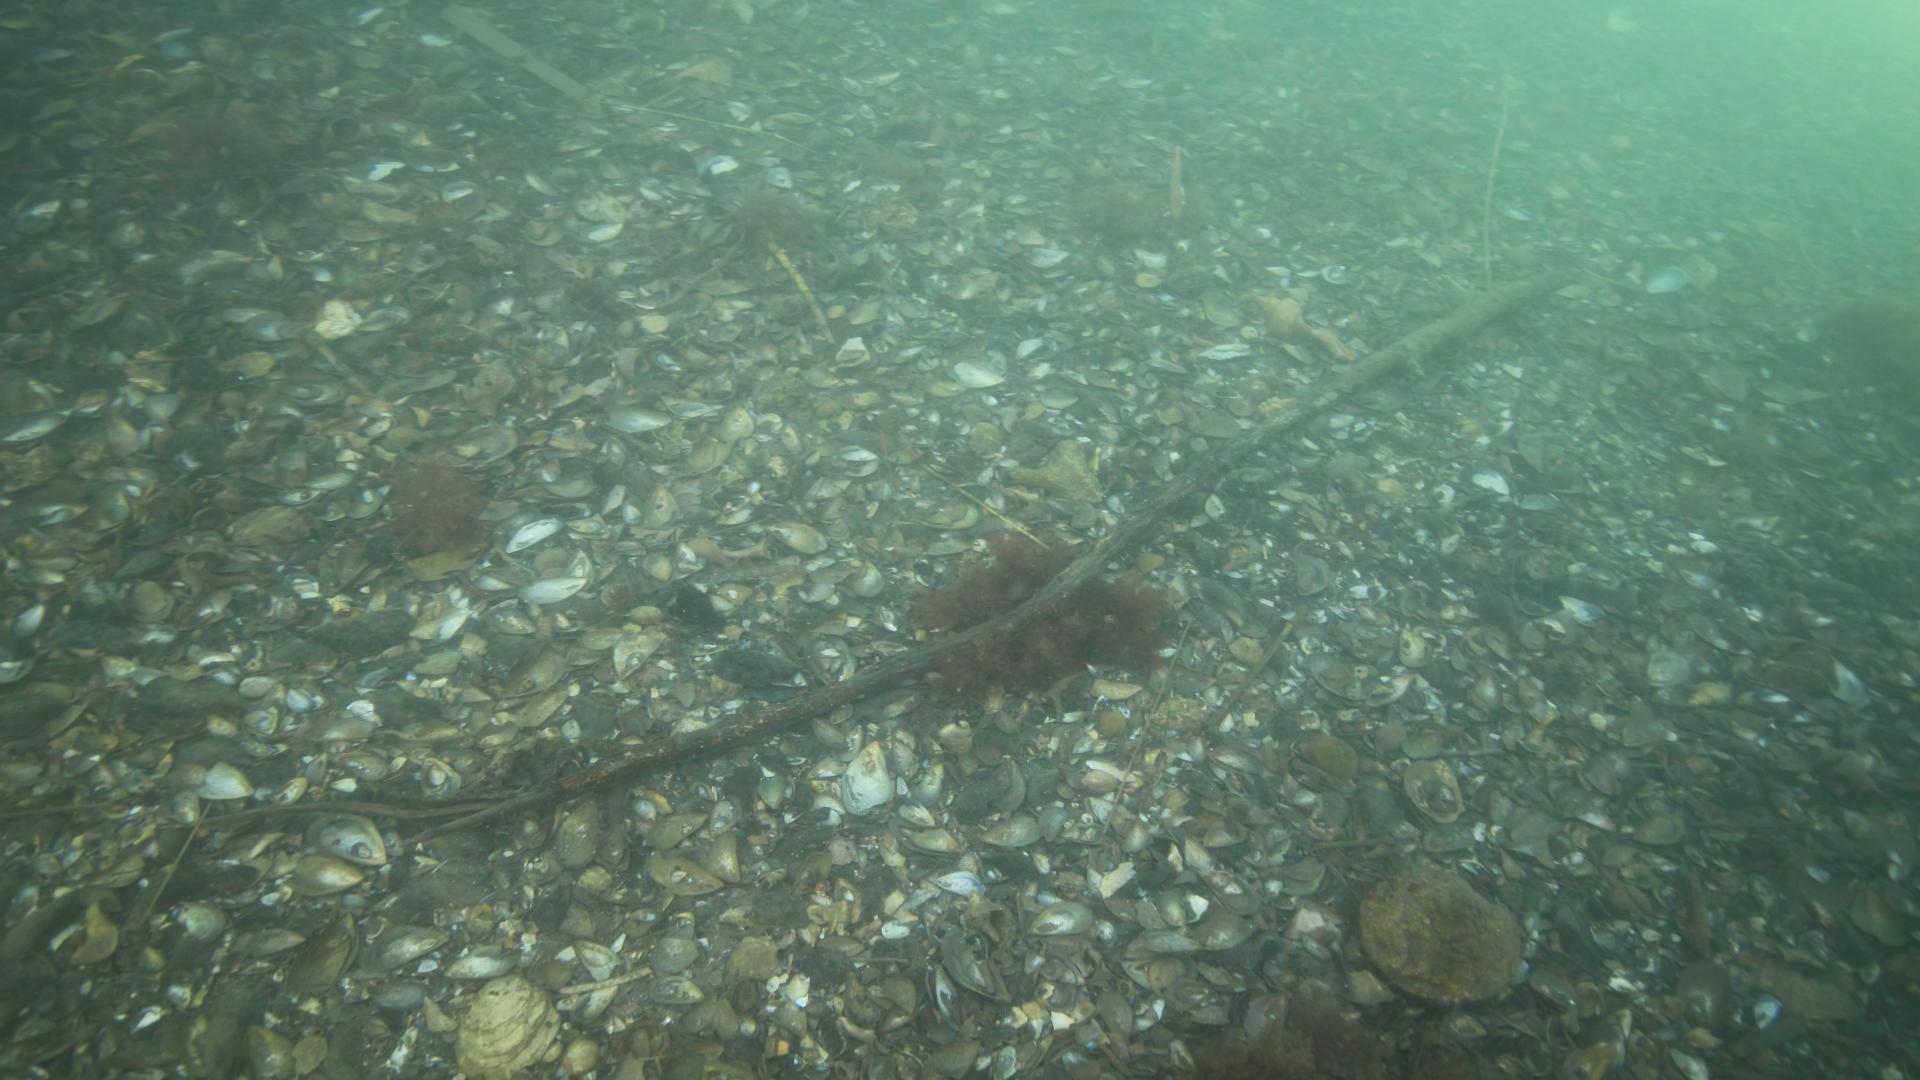wood: (566, 276, 1555, 787)
